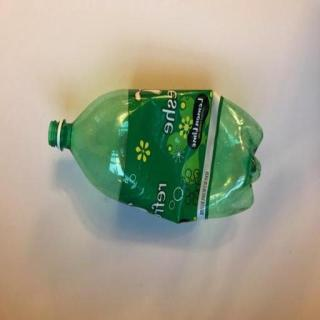Anorganik: (41, 79, 270, 230)
